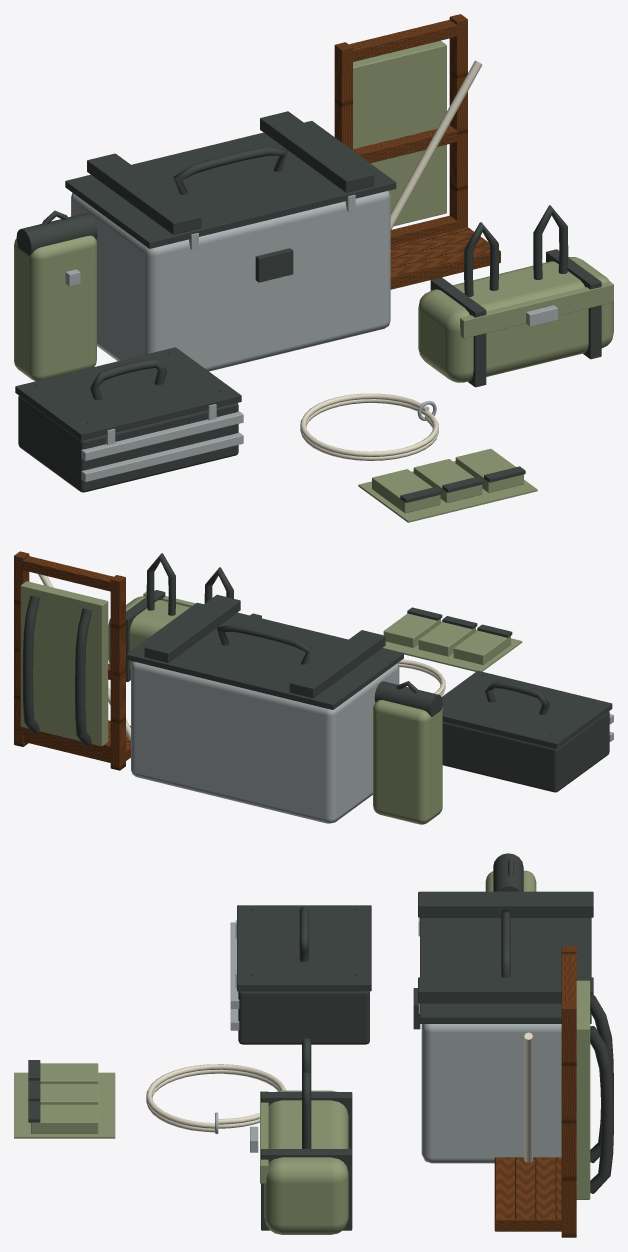
The model's file is backpacks-and-expedition-storage-cargo-staging-28064dc3__21115.glb.
The picture shows the model from 3 angles, top to bottom: view 1: azimuth 30°, elevation 25°; view 2: azimuth 150°, elevation 25°; view 3: azimuth 270°, elevation 25°; orthographic projection. The views are drawn at different scales.
Parts seen in each view (by area): view 1: 000-stacking-cargo-trunk/0, 000-stacking-cargo-trunk/lid/dark, 003-wooden-cargo-frame/0, 002-duffel-bag/0, 003-wooden-cargo-frame/1, 001-hard-equipment-case/lid/dark, 006-dry-bag/0, 000-stacking-cargo-trunk/2, 001-hard-equipment-case/0, 005-lid-organizer/0, 002-duffel-bag/3, 001-hard-equipment-case/2 (+5 smaller); view 2: 000-stacking-cargo-trunk/0, 000-stacking-cargo-trunk/lid/dark, 003-wooden-cargo-frame/1, 001-hard-equipment-case/0, 006-dry-bag/0, 003-wooden-cargo-frame/0, 001-hard-equipment-case/lid/dark, 000-stacking-cargo-trunk/2, 005-lid-organizer/0, 003-wooden-cargo-frame/2, 002-duffel-bag/3, 002-duffel-bag/0 (+3 smaller); view 3: 000-stacking-cargo-trunk/0, 000-stacking-cargo-trunk/lid/dark, 001-hard-equipment-case/lid/dark, 002-duffel-bag/0, 003-wooden-cargo-frame/0, 000-stacking-cargo-trunk/2, 001-hard-equipment-case/0, 005-lid-organizer/0, 002-duffel-bag/3, 003-wooden-cargo-frame/1, 003-wooden-cargo-frame/2, 004-rope-sling/0 (+5 smaller).
Part boxes in pixels (x1,y1,x2,y2): 000-stacking-cargo-trunk/0: [71, 191, 390, 371]; 000-stacking-cargo-trunk/lid/dark: [65, 121, 396, 248]; 003-wooden-cargo-frame/0: [334, 14, 500, 289]; 002-duffel-bag/0: [418, 257, 613, 382]; 003-wooden-cargo-frame/1: [353, 40, 446, 226]; 001-hard-equipment-case/lid/dark: [15, 347, 241, 440]; 006-dry-bag/0: [14, 235, 96, 381]; 000-stacking-cargo-trunk/2: [87, 111, 374, 282]; 001-hard-equipment-case/0: [18, 352, 238, 492]; 005-lid-organizer/0: [358, 448, 537, 522]; 002-duffel-bag/3: [430, 205, 601, 387]; 001-hard-equipment-case/2: [81, 404, 243, 481]; 000-stacking-cargo-trunk/0: [131, 661, 399, 823]; 000-stacking-cargo-trunk/lid/dark: [126, 602, 403, 709]; 003-wooden-cargo-frame/1: [20, 581, 108, 746]; 001-hard-equipment-case/0: [442, 674, 609, 792]; 006-dry-bag/0: [373, 700, 442, 824]; 003-wooden-cargo-frame/0: [14, 551, 130, 770]; 001-hard-equipment-case/lid/dark: [441, 670, 612, 749]; 000-stacking-cargo-trunk/2: [144, 594, 385, 698]; 005-lid-organizer/0: [382, 613, 522, 671]; 003-wooden-cargo-frame/2: [23, 595, 91, 745]; 002-duffel-bag/3: [126, 553, 261, 681]; 002-duffel-bag/0: [108, 596, 190, 674]; 000-stacking-cargo-trunk/0: [418, 917, 561, 1163]; 000-stacking-cargo-trunk/lid/dark: [420, 917, 591, 1023]; 001-hard-equipment-case/lid/dark: [237, 905, 371, 991]; 002-duffel-bag/0: [264, 1090, 348, 1234]; 003-wooden-cargo-frame/0: [494, 946, 576, 1237]; 000-stacking-cargo-trunk/2: [413, 891, 593, 1029]; 001-hard-equipment-case/0: [238, 906, 369, 1044]; 005-lid-organizer/0: [14, 1063, 115, 1138]; 002-duffel-bag/3: [261, 1038, 352, 1230]; 003-wooden-cargo-frame/1: [576, 980, 590, 1199]; 003-wooden-cargo-frame/2: [590, 995, 613, 1193]; 004-rope-sling/0: [146, 1064, 286, 1132].
Size of the model in its own units: 1.92 by 0.75 by 1.78.
5 materials, 1 textured.
